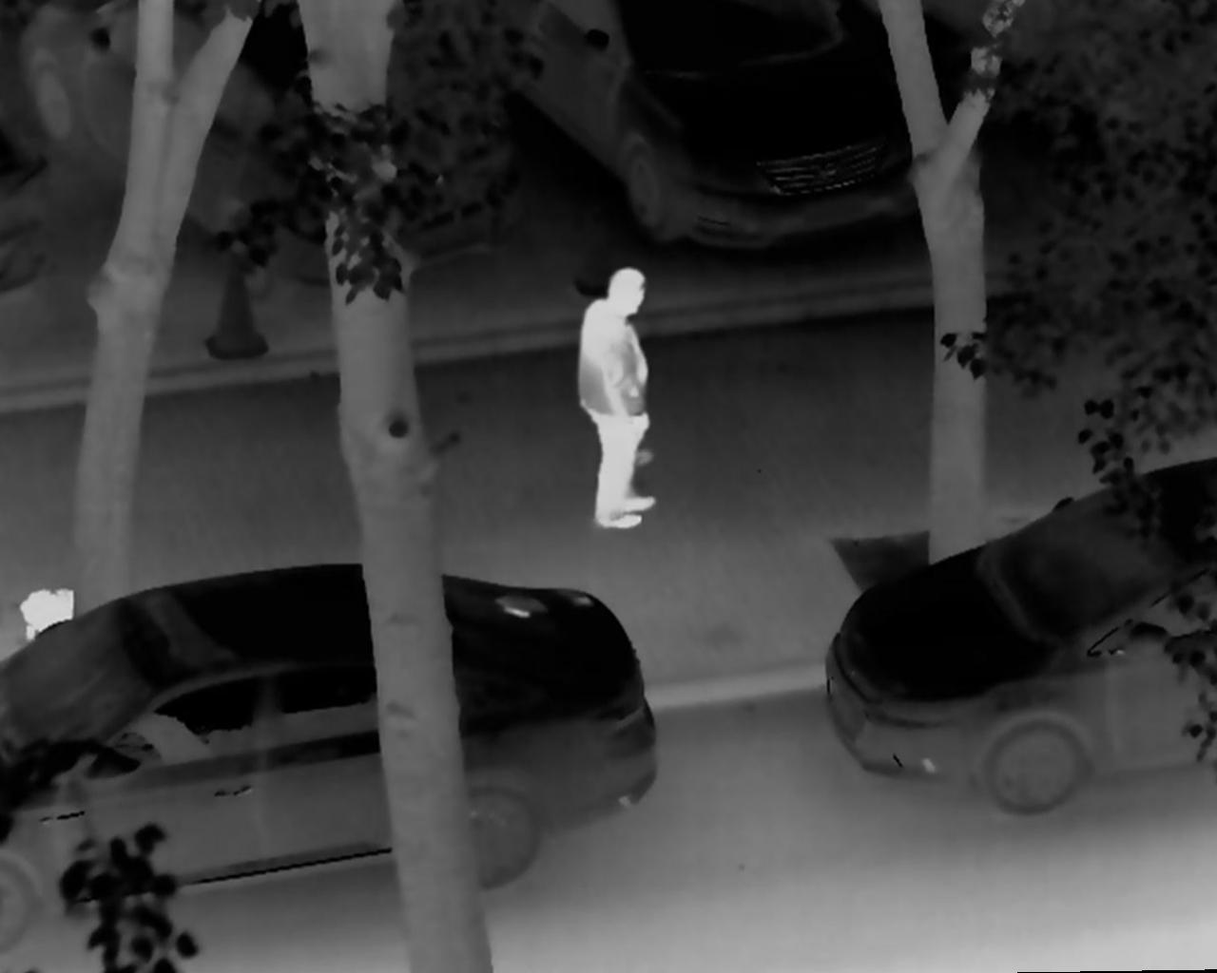person: (570, 257, 666, 541)
